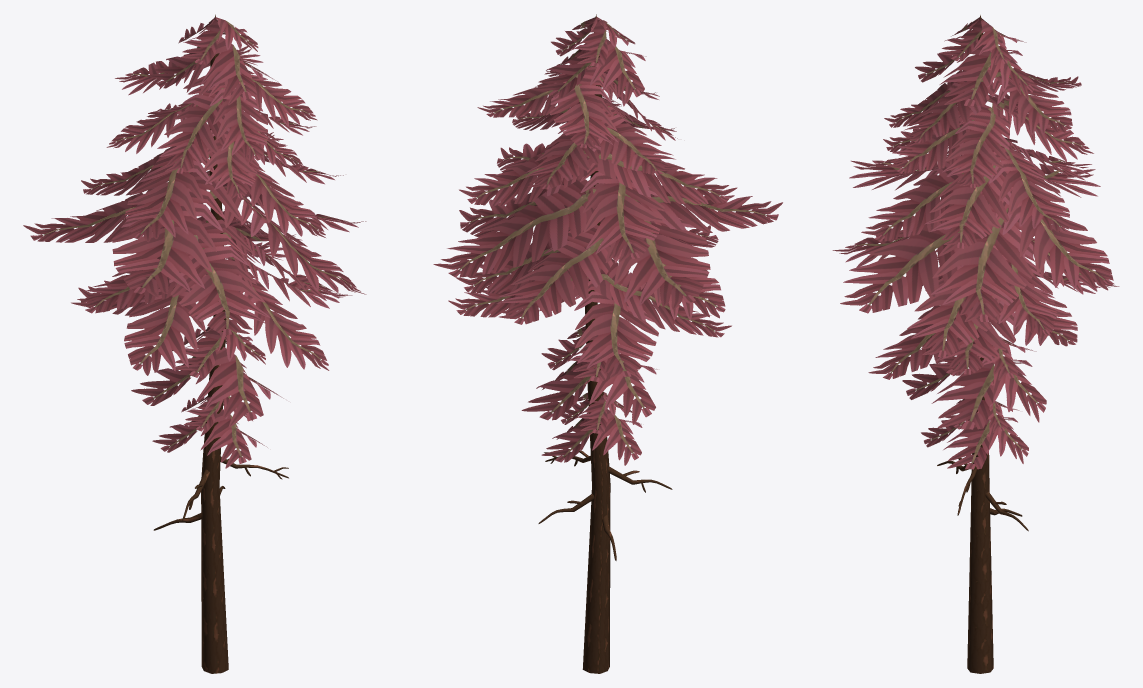
Rendered from PineTree_12.glb.
The picture shows the model from 3 angles, left to right: view 1: azimuth 30°, elevation 25°; view 2: azimuth 150°, elevation 25°; view 3: azimuth 270°, elevation 25°; orthographic projection.
Parts seen in each view (by area): view 1: PineTree_12; view 2: PineTree_12; view 3: PineTree_12.
Part boxes in pixels (x1,y1,x2,y2): PineTree_12: (23,14,366,673); PineTree_12: (433,14,782,673); PineTree_12: (832,15,1119,673).
Size of the model in its own units: 3.28 by 6.91 by 2.98.
2 materials, 2 textured.
